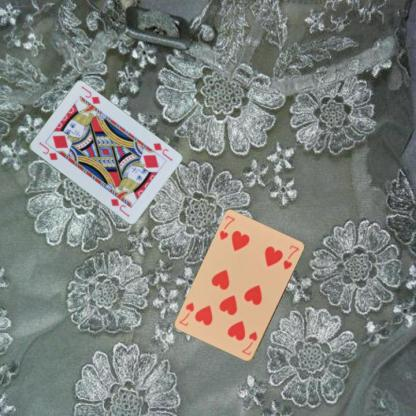7h: (217, 213, 236, 242), (239, 329, 259, 356)
Jd: (36, 139, 59, 162), (150, 140, 174, 162)
